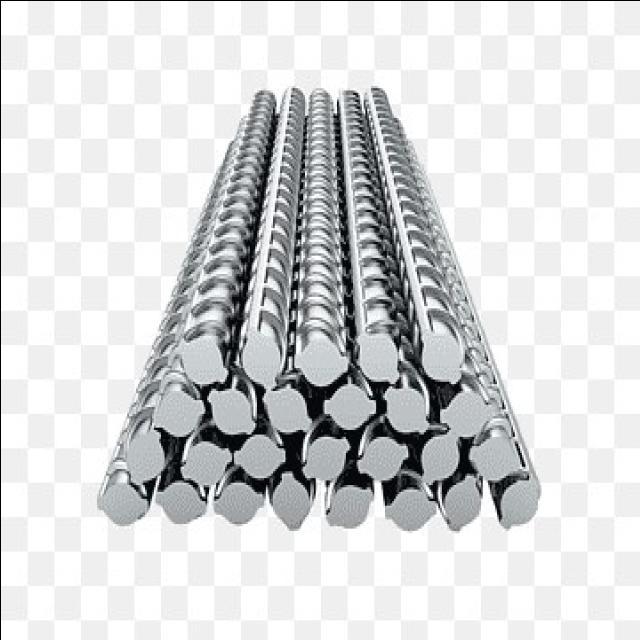Rebar: (259, 384, 311, 440), (298, 431, 352, 483), (181, 436, 233, 486), (209, 387, 259, 438), (386, 482, 436, 532), (380, 387, 432, 435), (442, 393, 497, 438), (182, 336, 230, 386), (298, 333, 350, 379), (470, 431, 524, 475), (232, 429, 286, 473), (275, 467, 313, 529), (127, 425, 166, 485), (356, 331, 402, 381), (155, 393, 208, 436), (154, 480, 207, 522), (321, 387, 375, 427), (419, 431, 462, 481), (239, 331, 282, 381), (357, 434, 405, 478), (94, 484, 145, 523), (423, 332, 461, 384), (499, 477, 540, 525), (442, 479, 484, 525), (213, 483, 261, 521), (328, 483, 369, 526)
